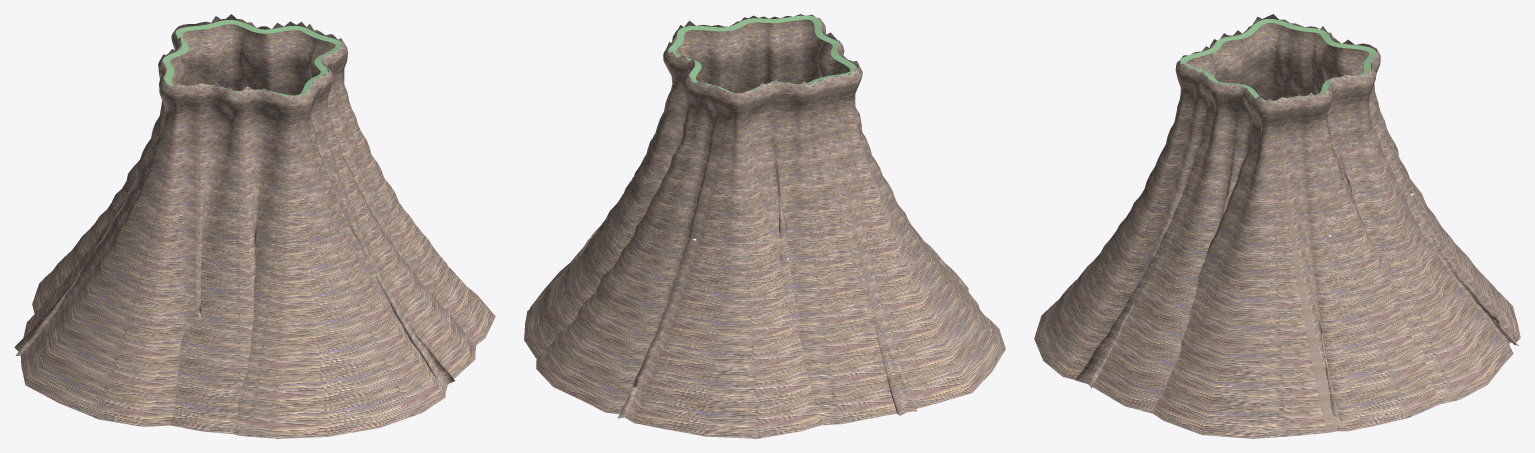
File: CliffWall_stack_08.glb
3 renders of one model, left to right at view 1: azimuth 30°, elevation 25°; view 2: azimuth 150°, elevation 25°; view 3: azimuth 270°, elevation 25°, orthographic. The views are drawn at different scales.
Parts seen in each view (by area): view 1: CliffWall_stack_08-rock0, CliffWall_stack_08-lip0; view 2: CliffWall_stack_08-rock0, CliffWall_stack_08-lip0; view 3: CliffWall_stack_08-rock0, CliffWall_stack_08-lip0.
Part boxes in pixels (x1,y1,x2,y2): CliffWall_stack_08-rock0: [14, 14, 495, 438]; CliffWall_stack_08-lip0: [162, 20, 341, 96]; CliffWall_stack_08-rock0: [524, 14, 1005, 438]; CliffWall_stack_08-lip0: [668, 15, 857, 93]; CliffWall_stack_08-rock0: [1034, 14, 1520, 438]; CliffWall_stack_08-lip0: [1180, 19, 1375, 101].
Size of the model in its own units: 612 by 386 by 607.
4 materials, 1 textured.
